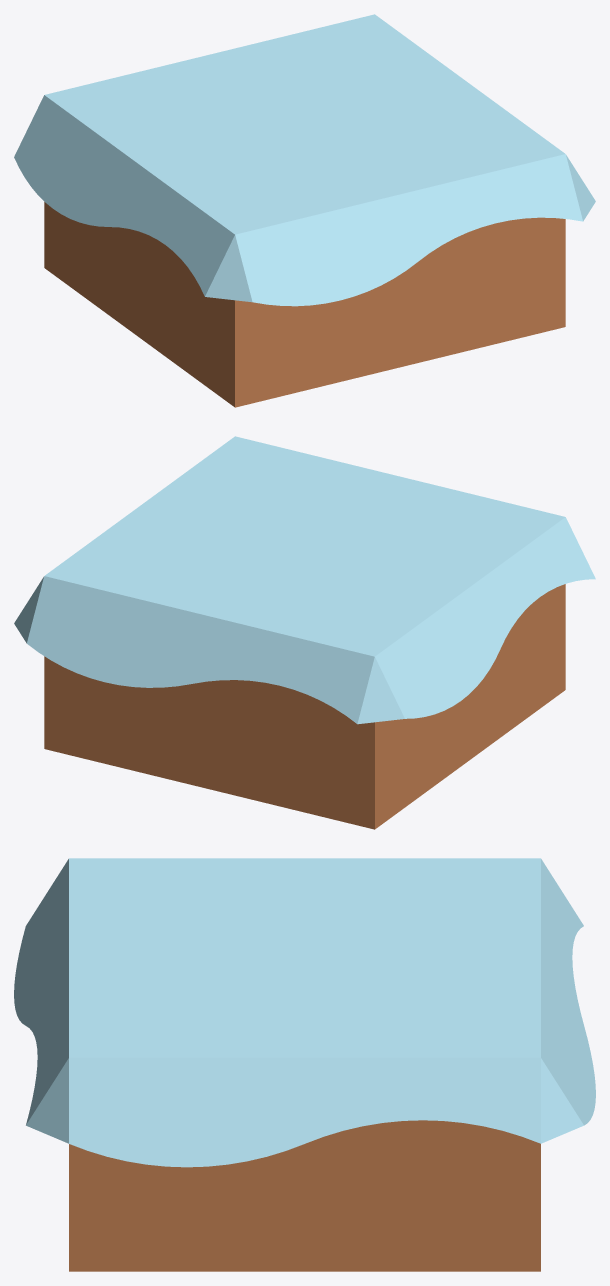
The model's file is blockSnowHalf.dae.
3 views of the same model, one above another, from view 1: azimuth 30°, elevation 25°; view 2: azimuth 150°, elevation 25°; view 3: azimuth 270°, elevation 25° (orthographic). The views are drawn at different scales.
Parts seen in each view (by area): view 1: blockSnowHalf; view 2: blockSnowHalf; view 3: blockSnowHalf.
Boxes of the visible parts, x1,y1,x2,y2 form: blockSnowHalf: (14,14,595,407); blockSnowHalf: (14,436,595,829); blockSnowHalf: (14,858,595,1271).
Size of the model in its own units: 1.23 by 0.5 by 1.23.
